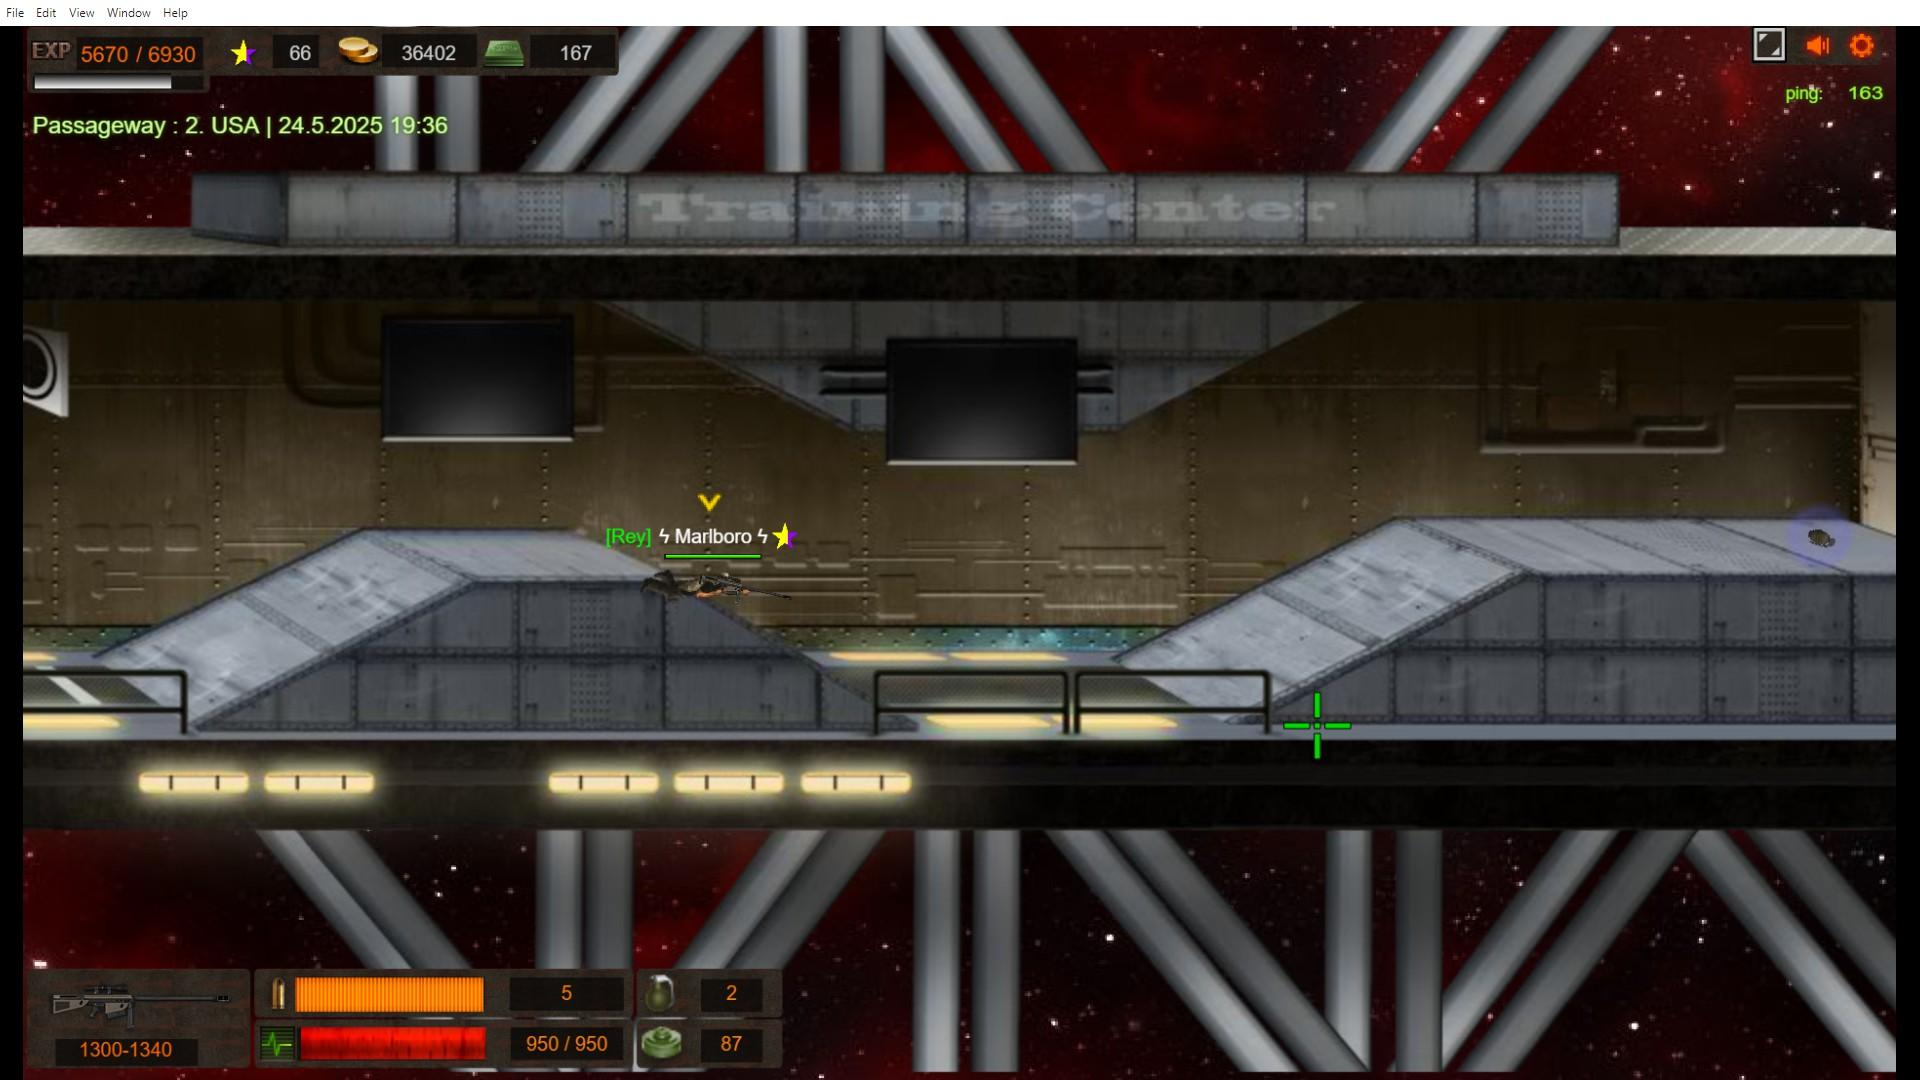enemy: (641, 566, 746, 599)
